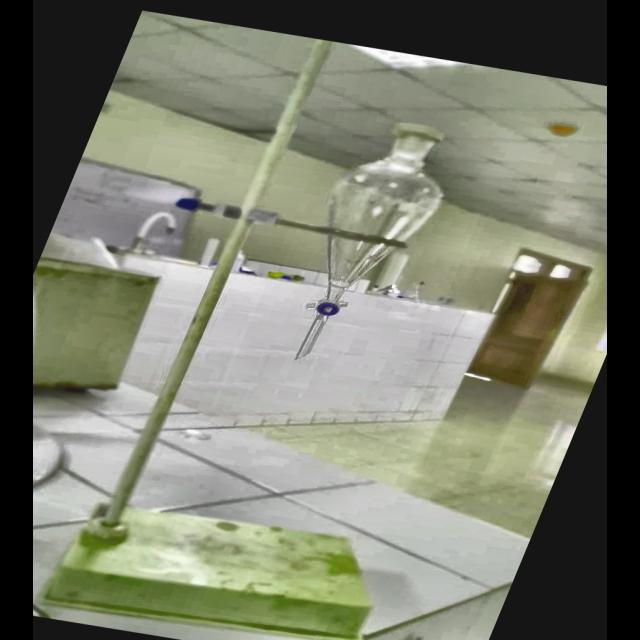Separating Funnel: (260, 101, 480, 382)
